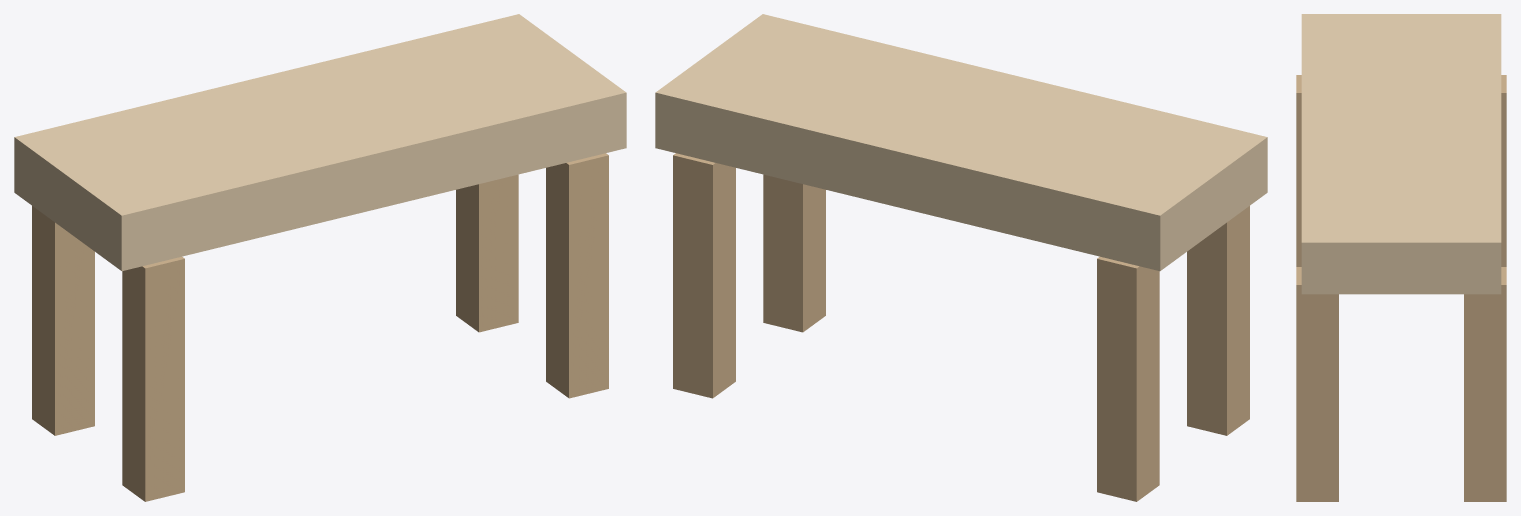
The model's file is bench.glb.
3 renders of one model, left to right at view 1: azimuth 30°, elevation 25°; view 2: azimuth 150°, elevation 25°; view 3: azimuth 270°, elevation 25°, orthographic. The views are drawn at different scales.
Visible parts, largest first — view 1: bench_oak_light_0, bench_oak_2, bench_oak_4, bench_oak_1, bench_oak_3; view 2: bench_oak_light_0, bench_oak_1, bench_oak_3, bench_oak_2, bench_oak_4; view 3: bench_oak_light_0, bench_oak_3, bench_oak_4, bench_oak_1, bench_oak_2.
Boxes of the visible parts, <box> form: bench_oak_light_0: <box>14,14,626,271</box>; bench_oak_2: <box>122,256,184,501</box>; bench_oak_4: <box>546,153,608,398</box>; bench_oak_1: <box>32,206,94,435</box>; bench_oak_3: <box>456,174,518,332</box>; bench_oak_light_0: <box>655,14,1267,271</box>; bench_oak_1: <box>1097,256,1159,501</box>; bench_oak_3: <box>673,153,735,398</box>; bench_oak_2: <box>1187,206,1249,435</box>; bench_oak_4: <box>763,174,825,332</box>; bench_oak_light_0: <box>1301,14,1501,294</box>; bench_oak_3: <box>1464,267,1506,501</box>; bench_oak_4: <box>1296,267,1338,501</box>; bench_oak_1: <box>1501,75,1506,266</box>; bench_oak_2: <box>1296,75,1301,266</box>.
Size of the model in its own units: 0.95 by 0.52 by 0.369.
